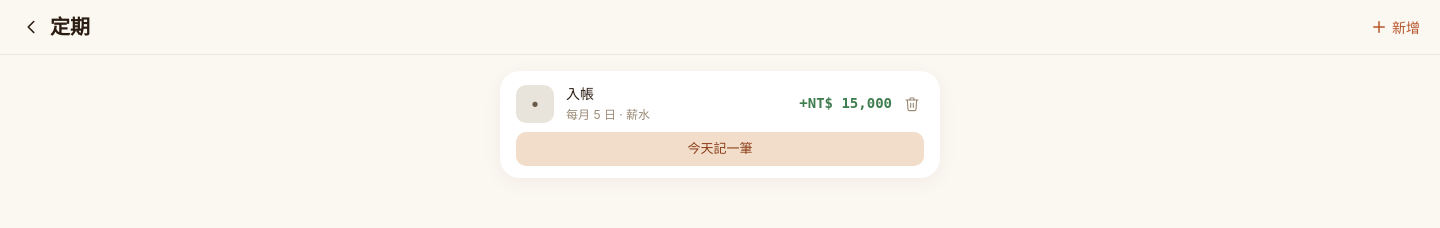
Scenario: RecurringManager › 停用操作 › 確認停用後從列表移除
This screenshot has width=1440, height=228.
Click the button named "停用" at (912, 104), box [900,92,924,116]
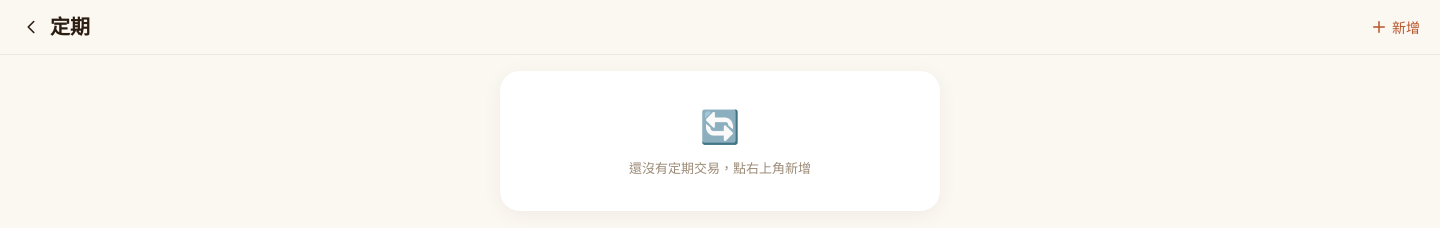
Expected: the text "薪水" is gone
